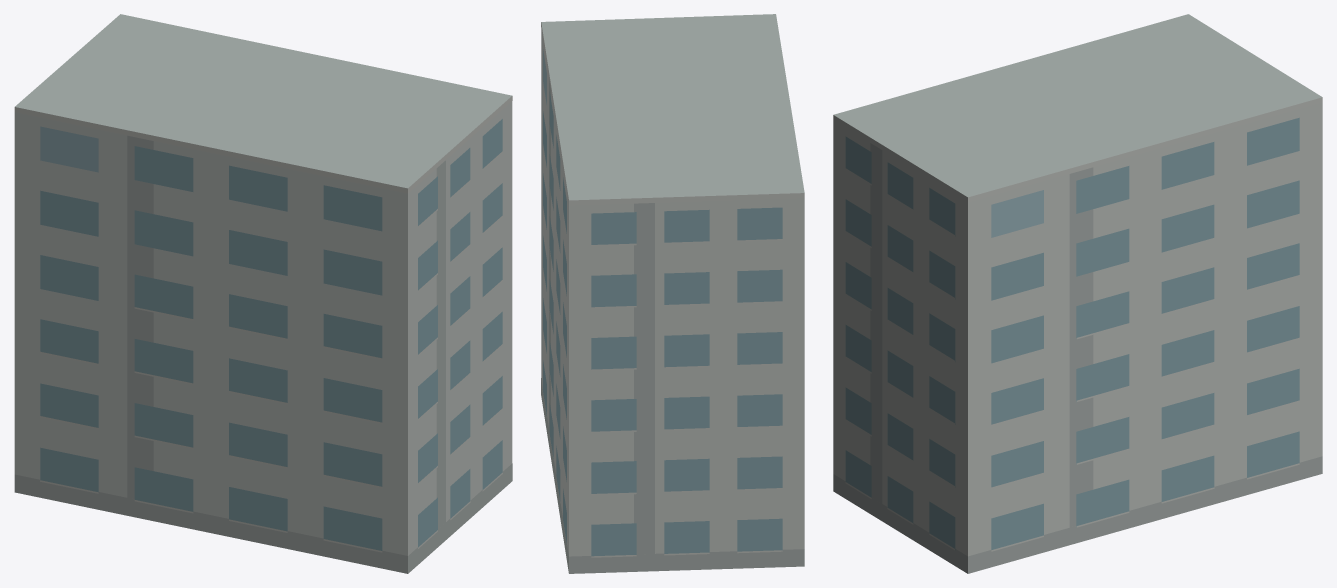
The model's file is survey-upis-32891712.glb.
The picture shows the model from 3 angles, left to right: view 1: azimuth 30°, elevation 25°; view 2: azimuth 150°, elevation 25°; view 3: azimuth 270°, elevation 25°; orthographic projection. The views are drawn at different scales.
Visible parts, largest first — view 1: survey-upis-32891712.tmp; view 2: survey-upis-32891712.tmp; view 3: survey-upis-32891712.tmp.
Boxes of the visible parts, x1=… form: survey-upis-32891712.tmp: x1=14, y1=14, x2=512, y2=573; survey-upis-32891712.tmp: x1=541, y1=14, x2=804, y2=573; survey-upis-32891712.tmp: x1=833, y1=14, x2=1322, y2=573.
Bounding box in the file's own units: 18.19 × 17.4 × 20.51.
